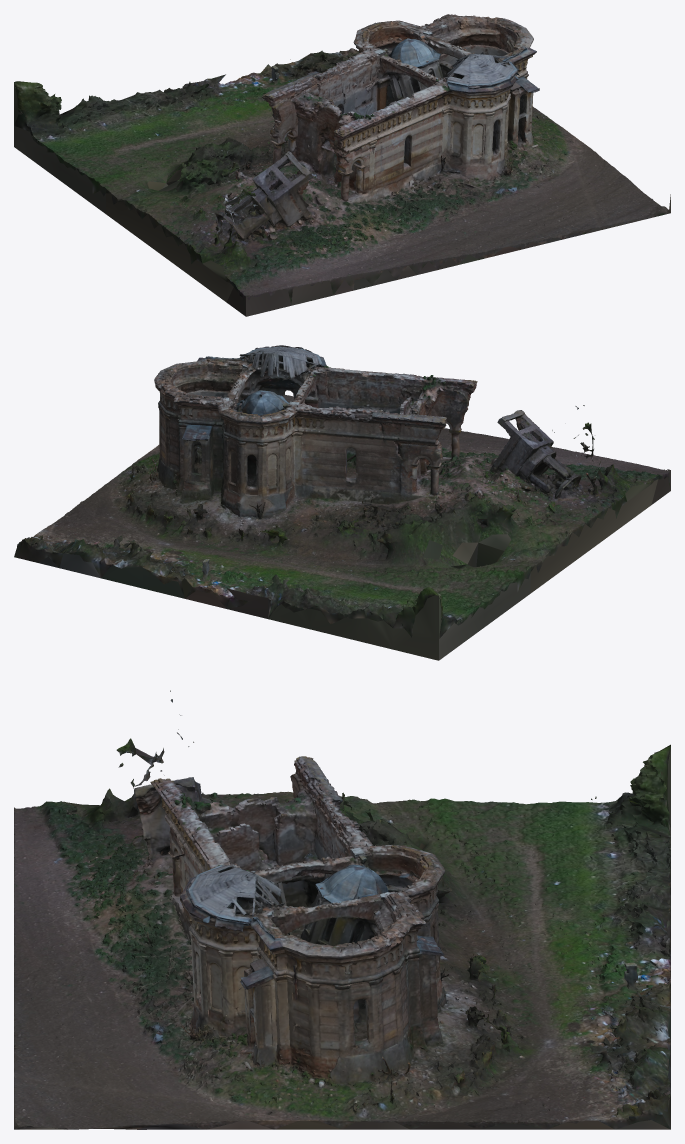
The picture shows the model from 3 angles, top to bottom: view 1: azimuth 30°, elevation 25°; view 2: azimuth 150°, elevation 25°; view 3: azimuth 270°, elevation 25°; orthographic projection. The views are drawn at different scales.
Visible parts, largest first — view 1: Object_3, Object_4, Object_5, Object_2, Object_6; view 2: Object_3, Object_4, Object_2, Object_5, Object_6; view 3: Object_3, Object_5, Object_2, Object_4, Object_6.
Boxes of the visible parts, x1,y1,x2,y2 form: Object_3: [14, 14, 599, 213]; Object_4: [95, 39, 667, 302]; Object_5: [181, 16, 670, 316]; Object_2: [155, 51, 556, 252]; Object_6: [262, 36, 644, 256]; Object_3: [14, 368, 530, 660]; Object_4: [17, 350, 667, 597]; Object_2: [71, 345, 562, 549]; Object_5: [39, 351, 670, 608]; Object_6: [129, 347, 493, 546]; Object_3: [165, 744, 670, 1129]; Object_5: [14, 738, 670, 1129]; Object_2: [14, 774, 561, 1121]; Object_4: [14, 690, 670, 1129]; Object_6: [14, 756, 500, 1112].
Bounding box in the file's own units: 34.98 × 9.8 × 33.09.
Materials: 1 (1 with a texture image).
